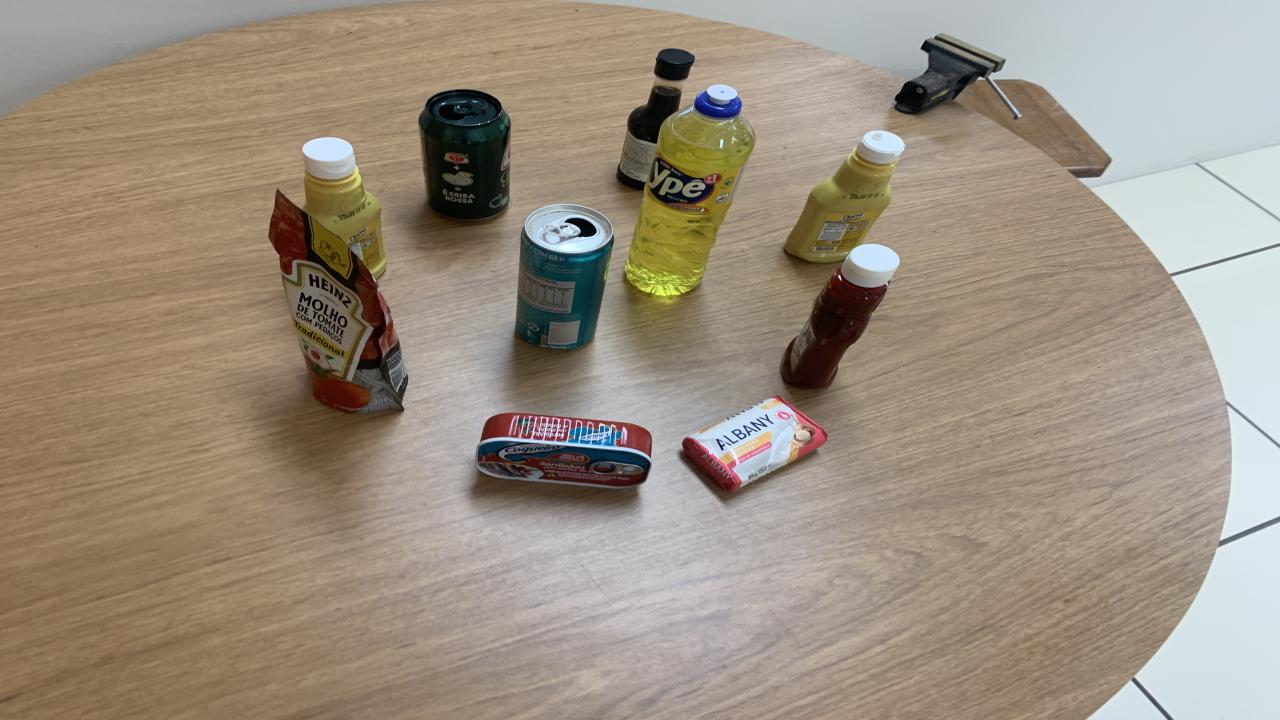Detergent-Cleanup_Items: (625, 84, 755, 296)
English_Sauce-Pantry_Items: (618, 49, 695, 189)
Guarana_Can-Drinks: (418, 90, 510, 219)
Ketchup-Pantry_Items: (780, 244, 900, 388)
Mustard-Pantry_Items: (785, 131, 905, 262), (302, 137, 385, 278)
Soap-Cleanup_Items: (682, 398, 828, 489)
Tea-Drinks: (515, 204, 612, 349)
Tomato_Sauce-Pantry_Items: (268, 191, 408, 412)
Tuna_Can-Pantry_Items: (478, 412, 652, 488)
